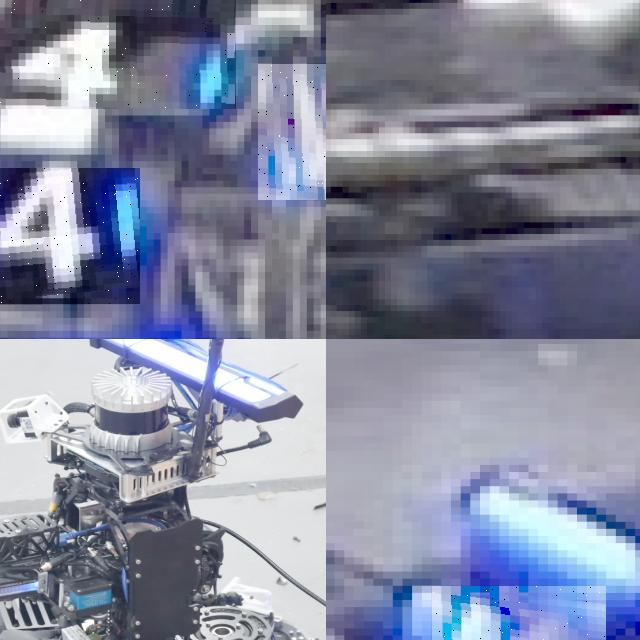B4: (0, 0, 237, 109), (0, 167, 139, 304), (431, 585, 606, 640), (258, 63, 326, 200)
